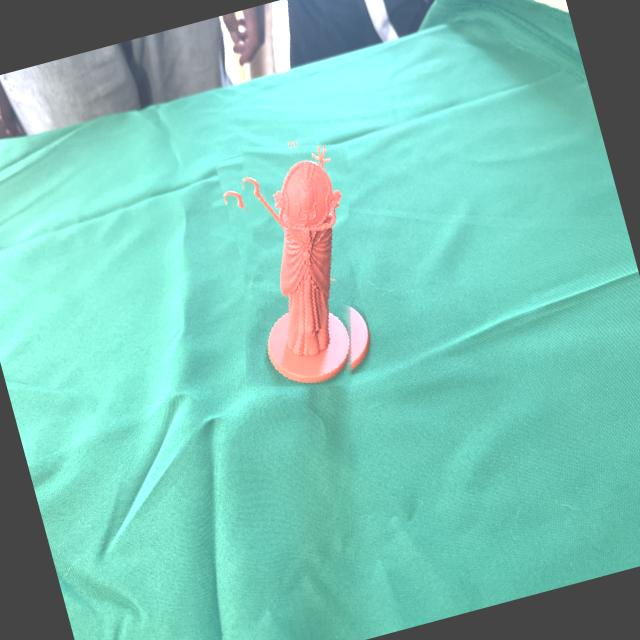amon: (200, 126, 394, 402)
